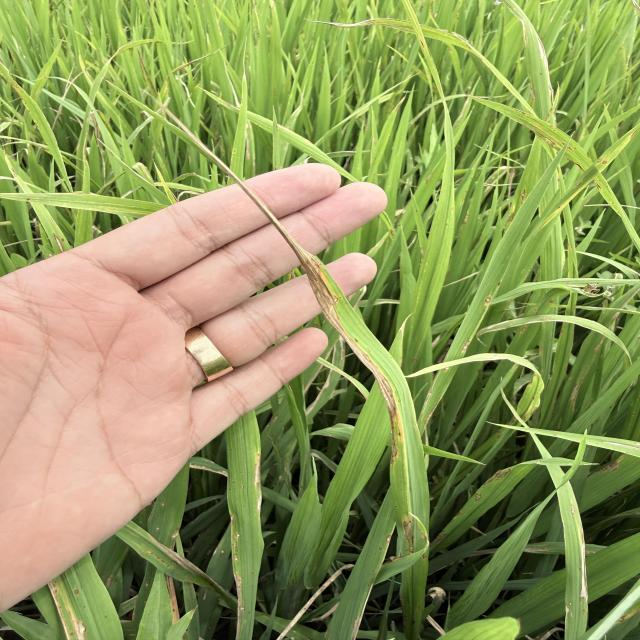Chay bia la: (144, 88, 406, 466)
